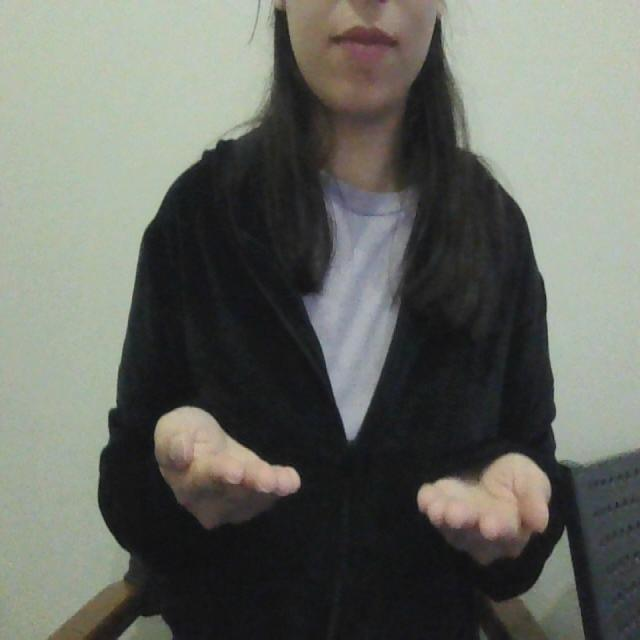Evet: (150, 401, 561, 580)
